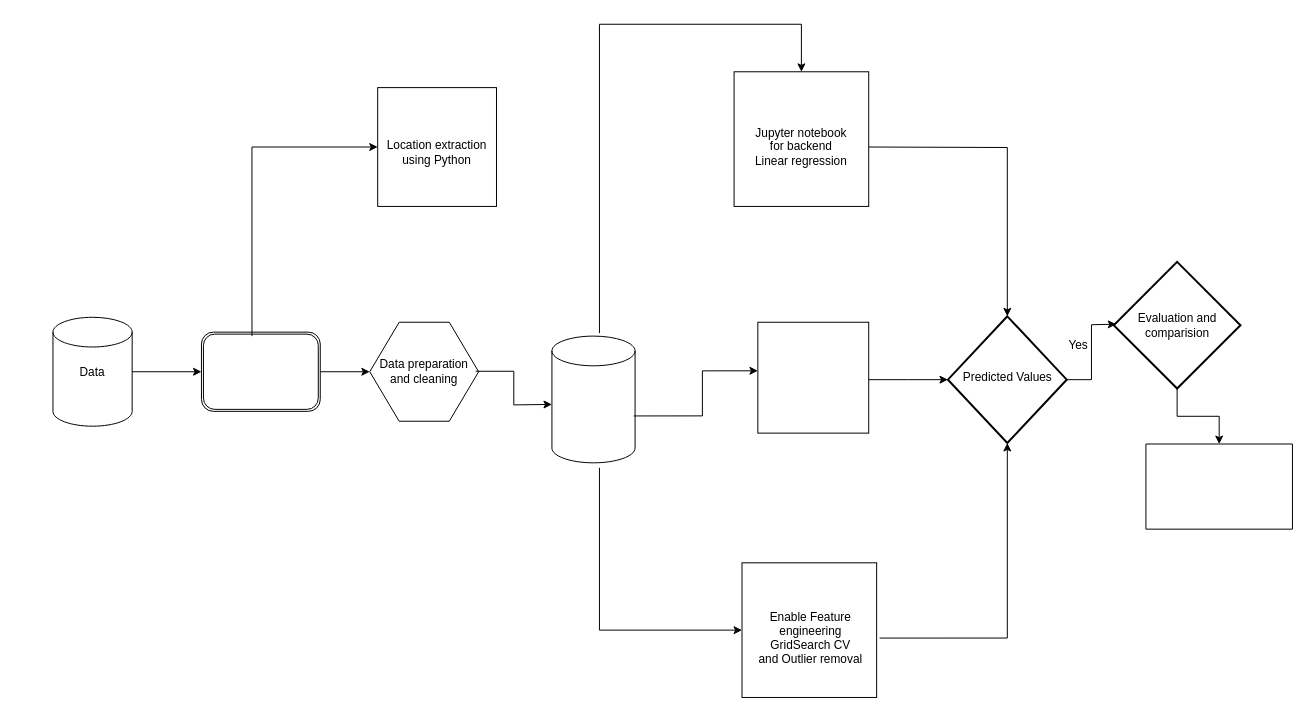
Image size: 1310x715. Some labels were removed from this diagram. Each missing label, with the centre of its shape:
Cleaned data: the point at 593,399
Converting text files into CSV: the point at 260,371
Prooving Linear regression's Accuracy: the point at 813,377
Visualization on Web: the point at 1218,486
